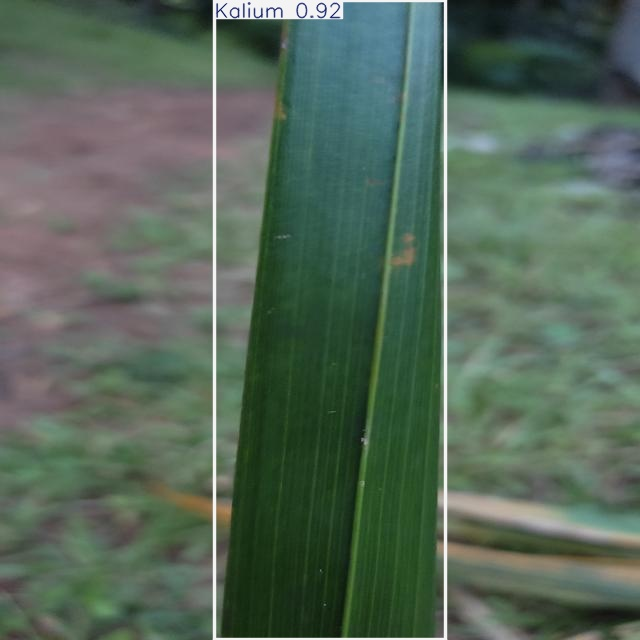Kalium: (214, 0, 446, 640)
